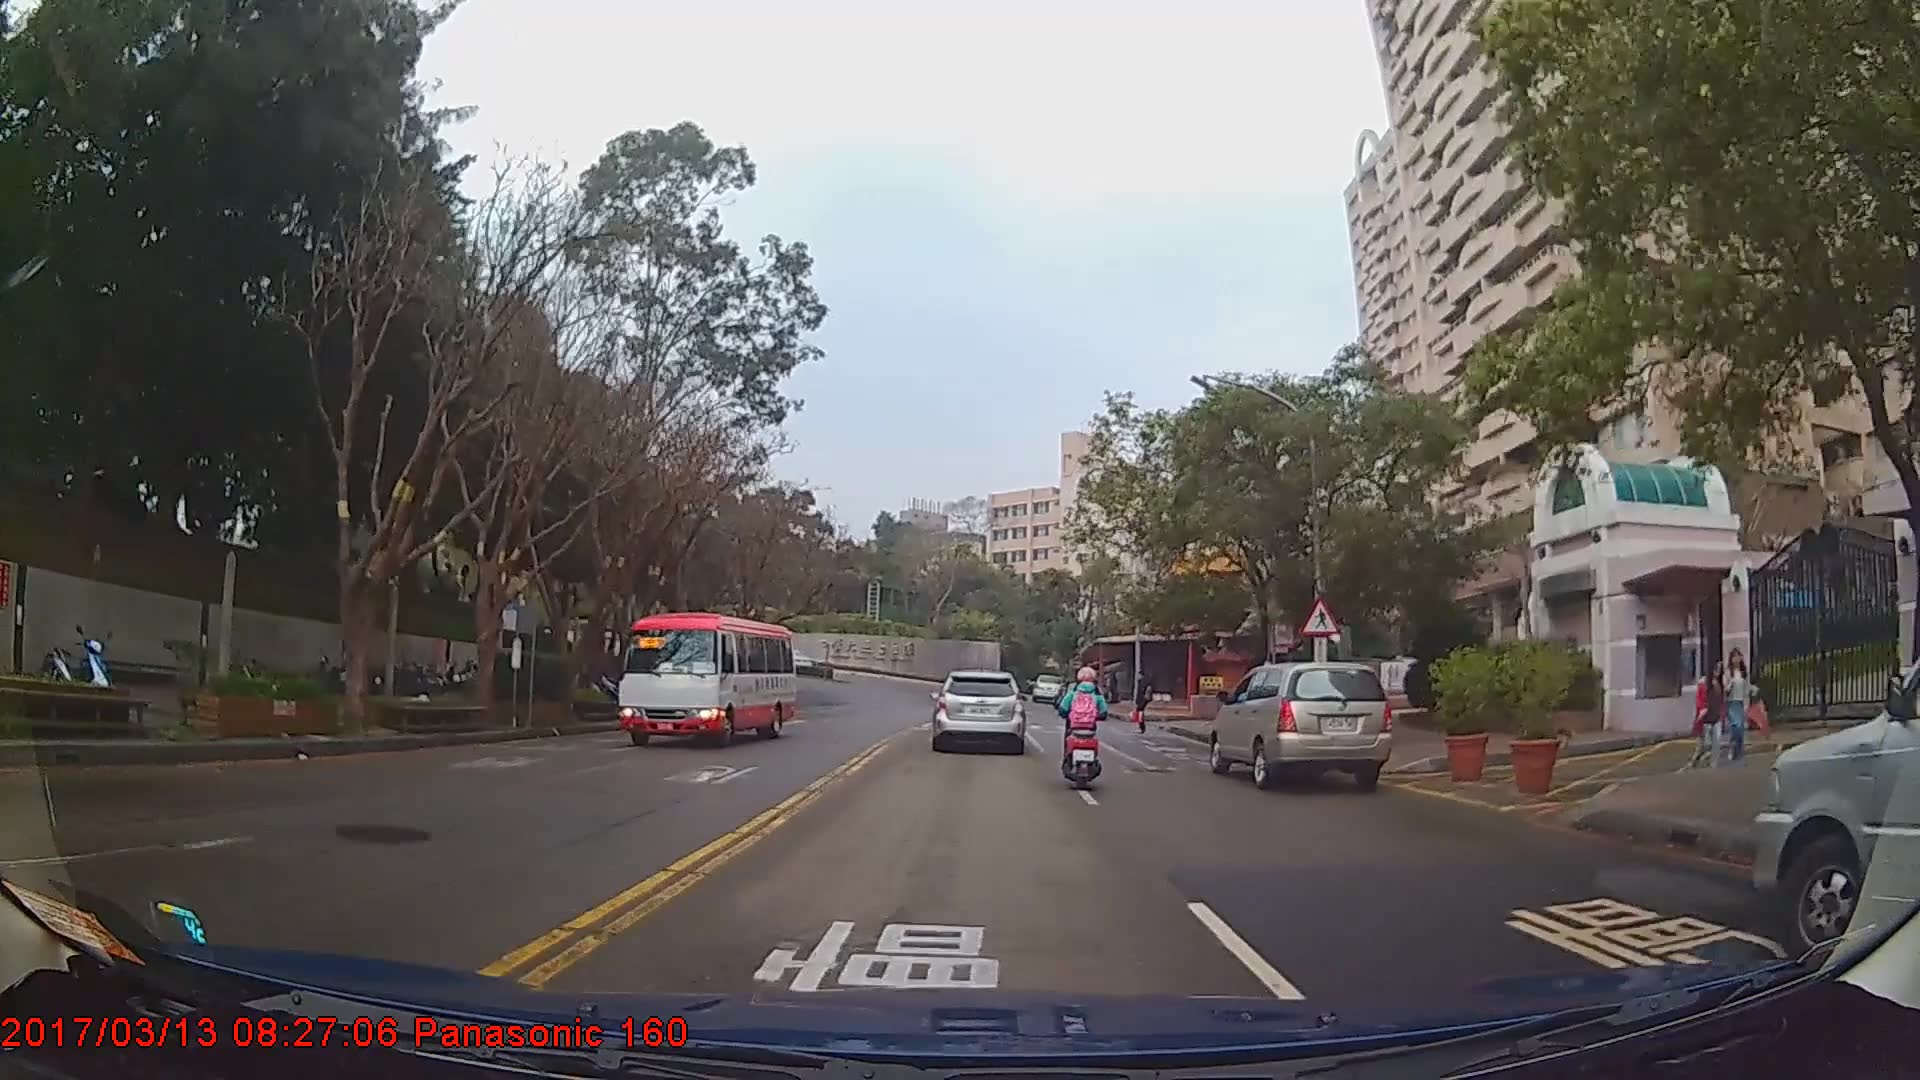pedestrian: (1721, 636, 1767, 766), (1690, 645, 1736, 777), (1131, 669, 1157, 740)
rider: (1058, 664, 1113, 794)
vehicle: (1754, 645, 1920, 970), (617, 612, 798, 748), (1207, 661, 1389, 791), (929, 669, 1026, 755), (1030, 674, 1063, 702)
